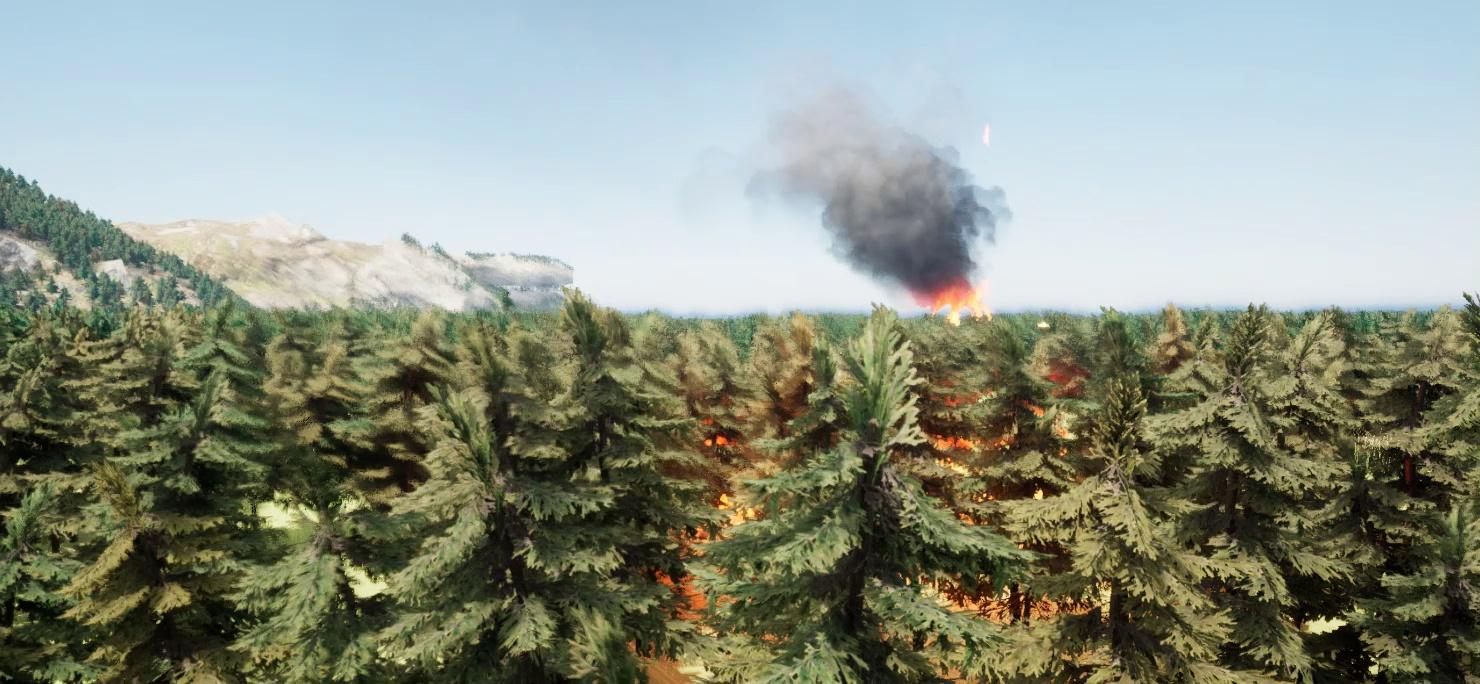fire: (921, 295, 998, 326)
smoke: (730, 72, 1013, 292)
